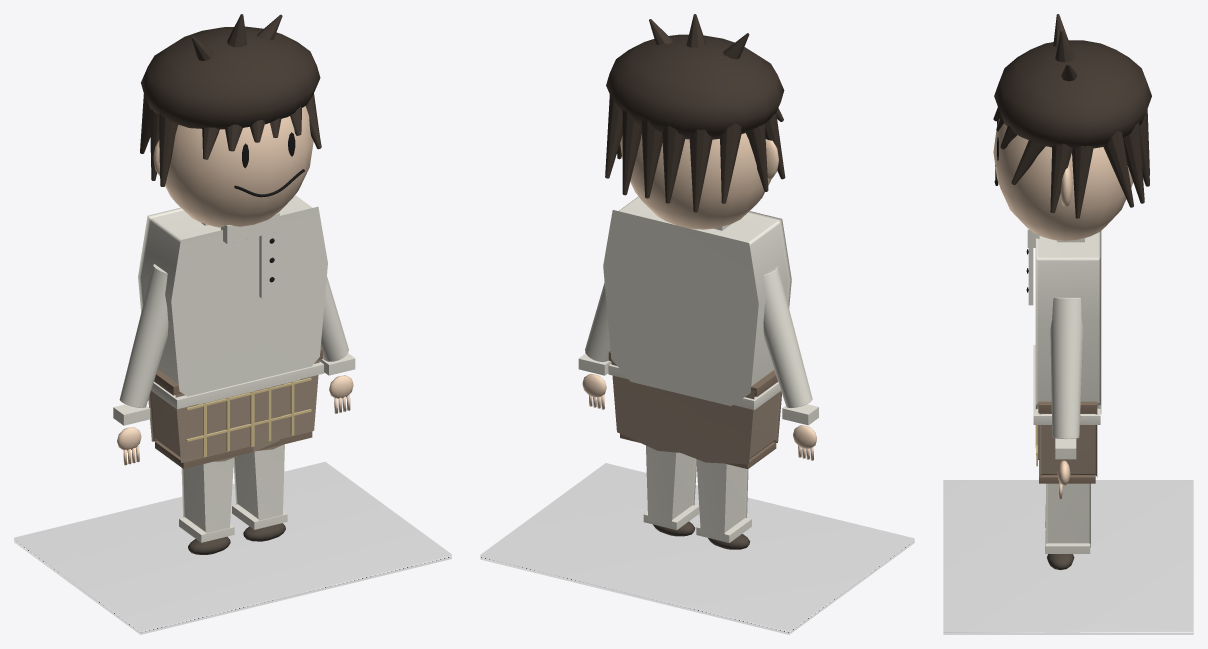
File: avatarsan.fbx
3 renders of one model, left to right at view 1: azimuth 30°, elevation 25°; view 2: azimuth 150°, elevation 25°; view 3: azimuth 270°, elevation 25°, orthographic.
Visible parts, largest first — view 1: Simple Ground, Slim Baju Melayu Top, Low Poly Hair Cap, Head - Simple Round, Slim Wrapped Sampin Cloth, Left Slim Long Sleeve, Left Slim Baju Melayu Pants Leg, Right Slim Baju Melayu Pants Leg, Straight Baju Melayu Hem, Sampin Slim Front Overlap, Right Slim Long Sleeve, Sampin Thin Bottom Fold (+6 smaller); view 2: Simple Ground, Slim Baju Melayu Top, Low Poly Hair Cap, Slim Wrapped Sampin Cloth, Head - Simple Round, Left Slim Long Sleeve, Left Slim Baju Melayu Pants Leg, Right Slim Baju Melayu Pants Leg, Back Point 2, Right Slim Long Sleeve, Back Point 3, Back Point 5 (+5 smaller); view 3: Simple Ground, Low Poly Hair Cap, Slim Baju Melayu Top, Head - Simple Round, Right Slim Long Sleeve, Right Slim Baju Melayu Pants Leg, Slim Wrapped Sampin Cloth, Back Point 6, Right Side Lock Lower, Back Point 5, Right Side Lock Upper, Straight Baju Melayu Hem (+9 smaller).
Boxes of the visible parts, left/top/right/bottom form: Simple Ground: left=14, top=461, right=451, bottom=634; Slim Baju Melayu Top: left=138, top=195, right=327, bottom=404; Low Poly Hair Cap: left=141, top=26, right=320, bottom=129; Head - Simple Round: left=165, top=106, right=313, bottom=227; Slim Wrapped Sampin Cloth: left=148, top=360, right=319, bottom=462; Left Slim Long Sleeve: left=119, top=264, right=168, bottom=408; Left Slim Baju Melayu Pants Leg: left=181, top=458, right=233, bottom=533; Right Slim Baju Melayu Pants Leg: left=233, top=444, right=284, bottom=520; Straight Baju Melayu Hem: left=151, top=361, right=324, bottom=409; Sampin Slim Front Overlap: left=253, top=383, right=284, bottom=451; Right Slim Long Sleeve: left=320, top=277, right=348, bottom=361; Sampin Thin Bottom Fold: left=155, top=431, right=312, bottom=468; Simple Ground: left=480, top=463, right=914, bottom=634; Slim Baju Melayu Top: left=603, top=196, right=791, bottom=405; Low Poly Hair Cap: left=606, top=34, right=784, bottom=139; Slim Wrapped Sampin Cloth: left=611, top=358, right=781, bottom=464; Head - Simple Round: left=620, top=133, right=771, bottom=229; Left Slim Long Sleeve: left=763, top=265, right=812, bottom=408; Left Slim Baju Melayu Pants Leg: left=696, top=459, right=748, bottom=538; Right Slim Baju Melayu Pants Leg: left=646, top=445, right=696, bottom=525; Back Point 2: left=689, top=129, right=712, bottom=212; Right Slim Long Sleeve: left=585, top=282, right=610, bottom=361; Back Point 3: left=662, top=125, right=685, bottom=203; Back Point 5: left=622, top=110, right=641, bottom=195; Simple Ground: left=943, top=480, right=1193, bottom=634; Low Poly Hair Cap: left=994, top=40, right=1151, bottom=148; Slim Baju Melayu Top: left=1035, top=231, right=1101, bottom=414; Head - Simple Round: left=993, top=119, right=1133, bottom=240; Right Slim Long Sleeve: left=1050, top=297, right=1083, bottom=439; Right Slim Baju Melayu Pants Leg: left=1046, top=483, right=1090, bottom=547; Slim Wrapped Sampin Cloth: left=1039, top=413, right=1097, bottom=477; Back Point 6: left=1103, top=131, right=1133, bottom=207; Right Side Lock Lower: left=1072, top=146, right=1093, bottom=218; Back Point 5: left=1123, top=122, right=1144, bottom=203; Right Side Lock Upper: left=1050, top=143, right=1072, bottom=213; Straight Baju Melayu Hem: left=1033, top=345, right=1100, bottom=424.
Size of the model in its own units: 270 by 446 by 190.
